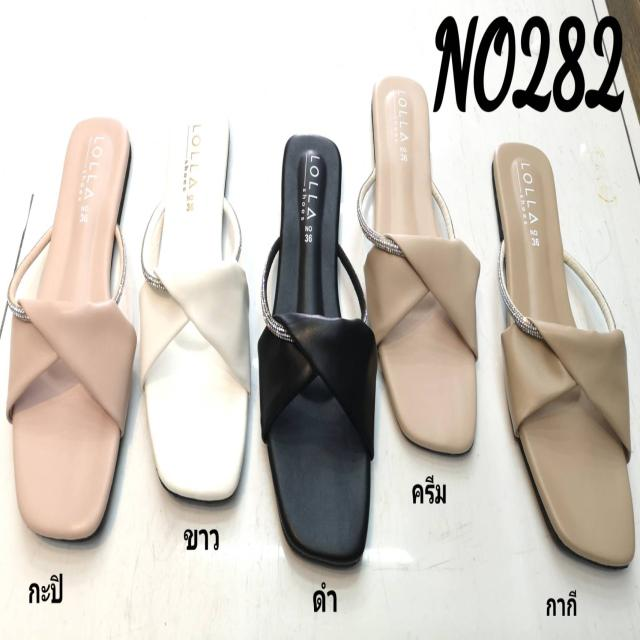black: (265, 135, 371, 565)
cream: (369, 74, 478, 455)
kakee: (493, 135, 634, 570)
kapi: (15, 116, 126, 538)
white: (143, 115, 250, 508)
